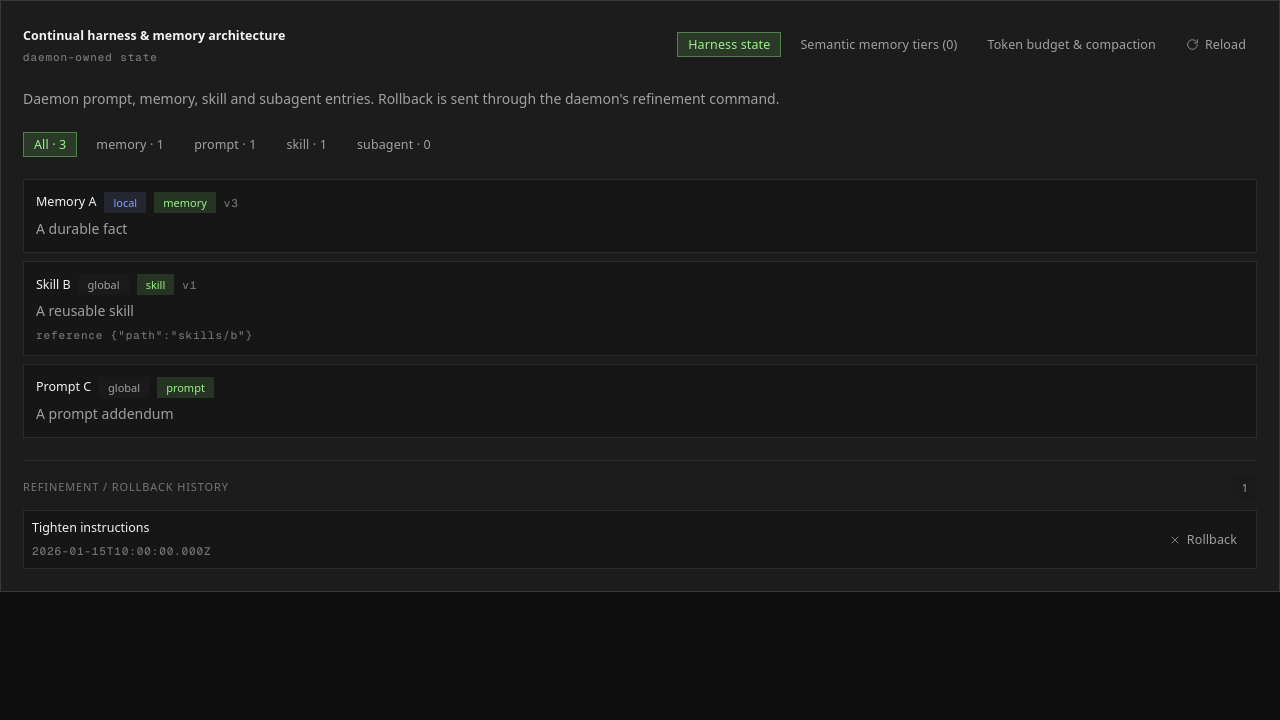
Test: HarnessStatePanel › surfaces an error when a rollback request fails
Expected: the text "Tighten instructions" is shown, [32,519,150,536]
Click the button "Rollback". click: (1203, 540)
box: [1158,527,1248,552]
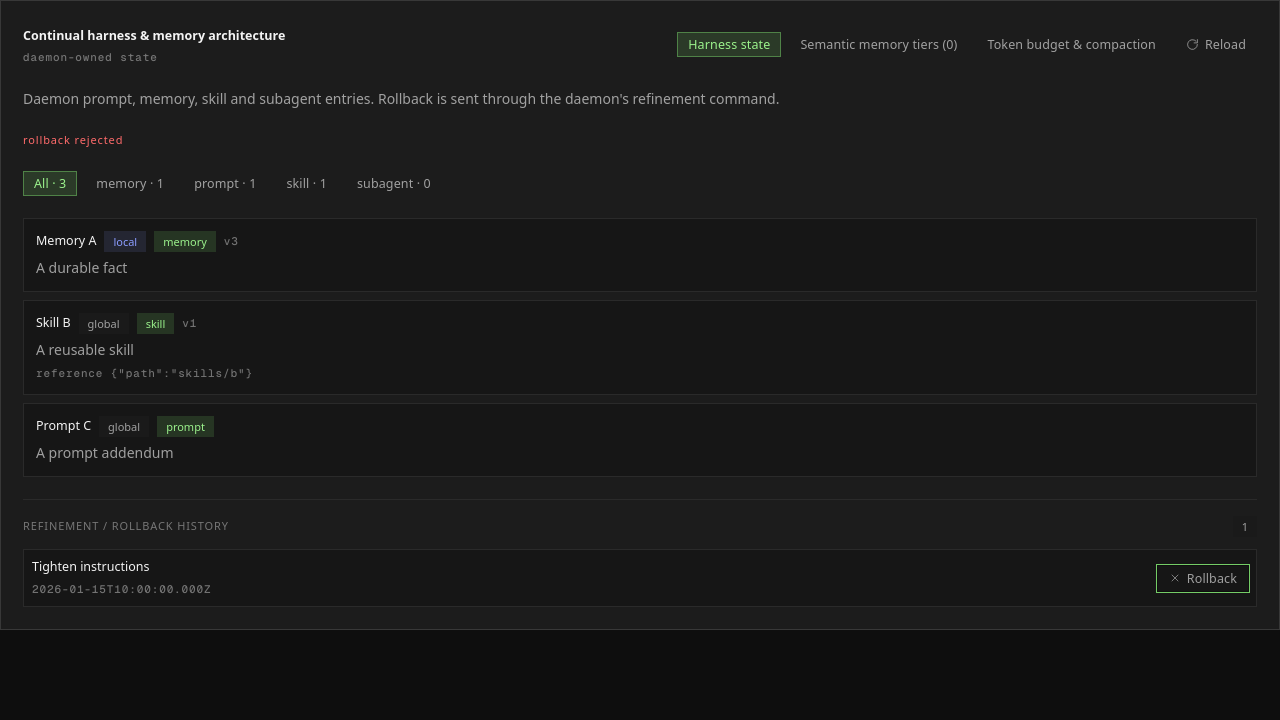
Expected: the text "rollback rejected" is shown, [23,132,123,147]
